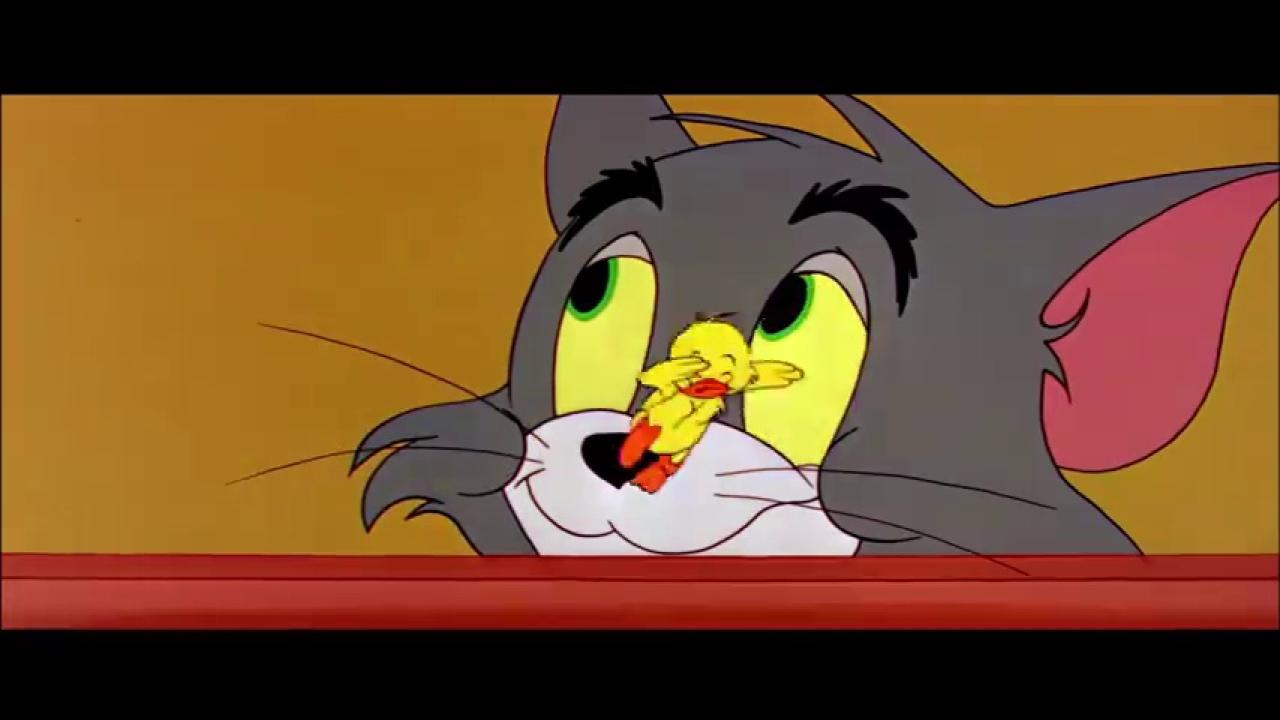Tom: (345, 93, 1280, 553)
